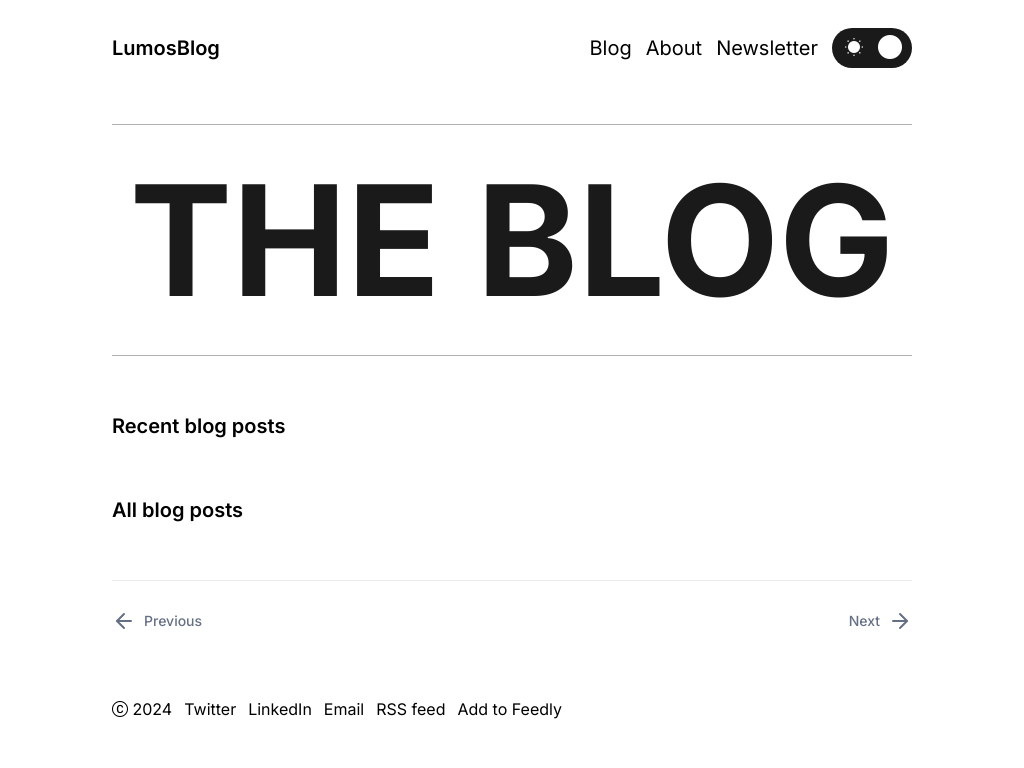
Test: Personal Blog Lumos › check nav link about and display about page
Click the list item "About" at (674, 48), box [646, 34, 702, 62]
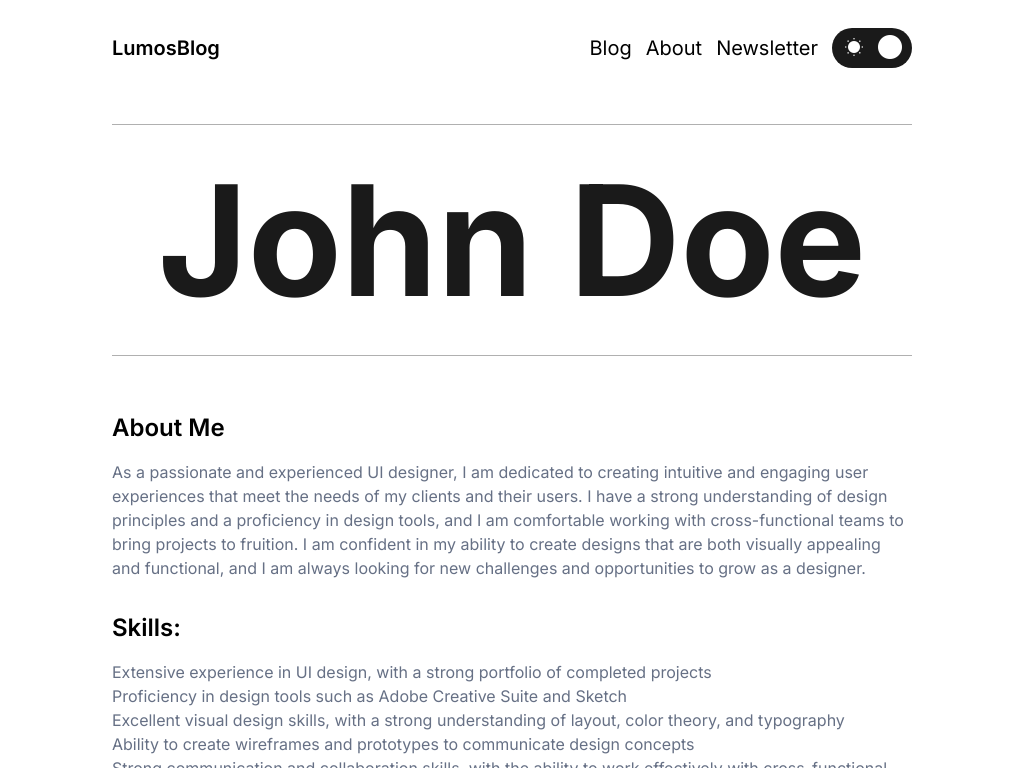
Expected: the element showing "LumosBlog Blog About Newsletter" is shown, [112, 28, 912, 68]
Expected: the element showing "John Doe" is shown, [112, 96, 912, 384]
Expected: the element that starts with "About Me" is shown, [112, 384, 912, 767]
